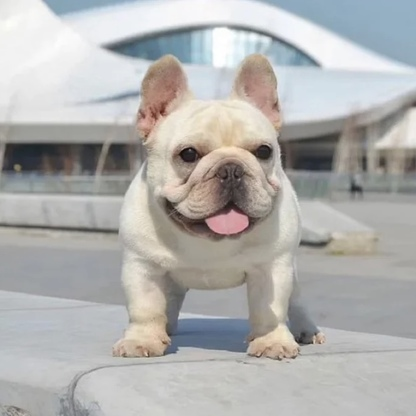bulldog: (125, 51, 307, 342)
